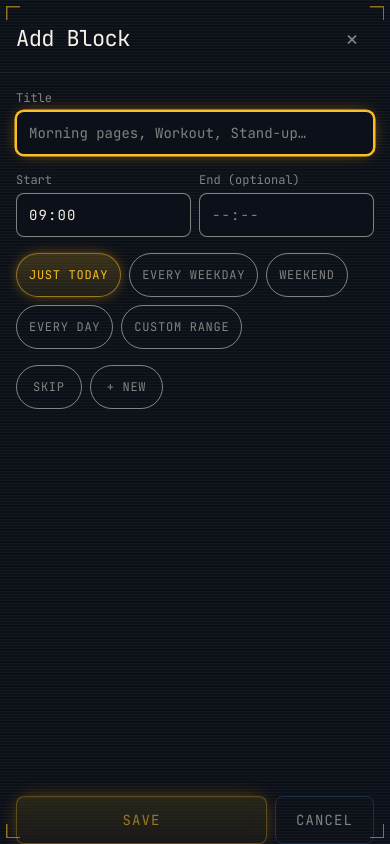
Scenario: C-m2-008: Custom-range zero weekdays disables Save › selecting a weekday removes alert and enables Save
Type "Foo" into the field labelled "Title". click: [195, 133]
box: [16,111,374,155]
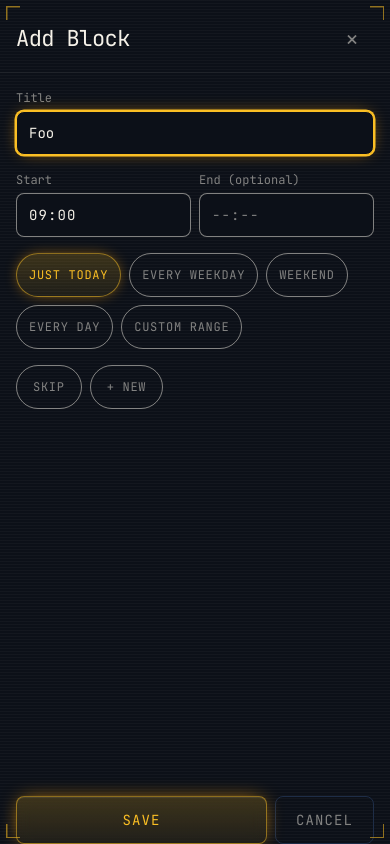
Click the radio button labelled "Custom range". click: [182, 327]
box: [121,305,242,349]
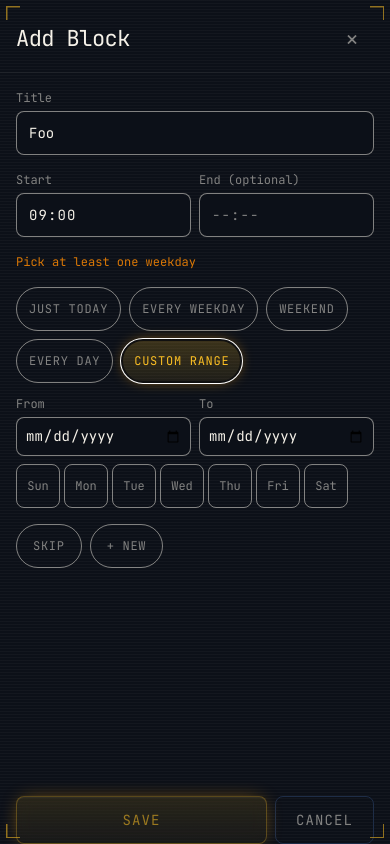
Click the button with aria-label "Mon". click: [86, 486]
box: [64,464,108,508]
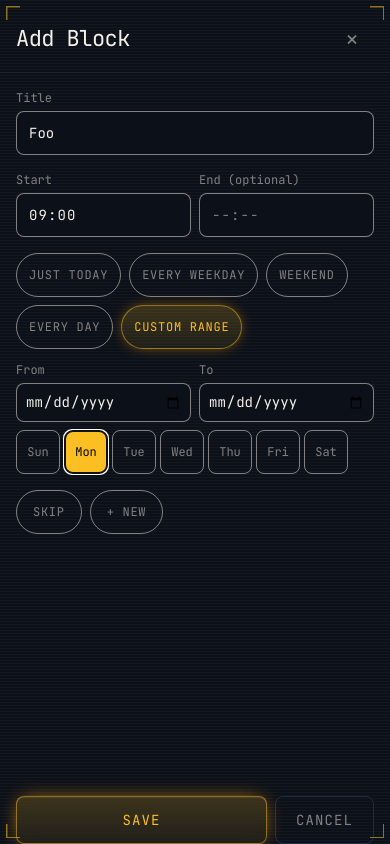
Check: the message "Pick at least one weekday" is gone
